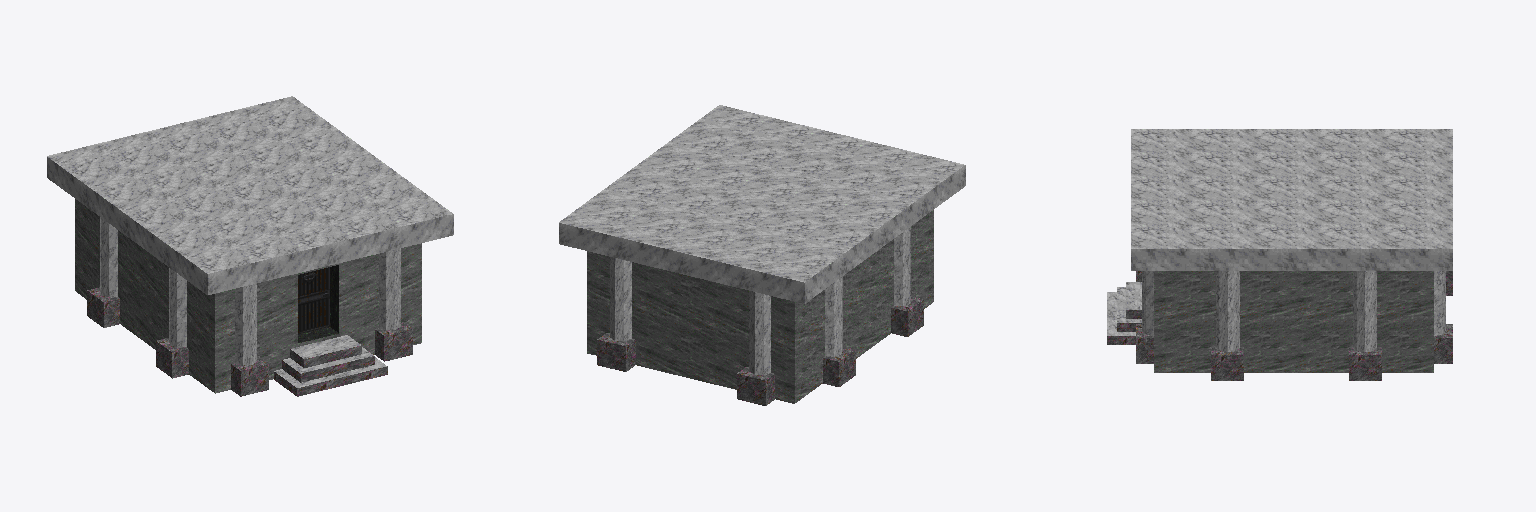
3 views of the same model, side by side, from view 1: azimuth 30°, elevation 25°; view 2: azimuth 150°, elevation 25°; view 3: azimuth 270°, elevation 25° (orthographic).
Visible parts, largest first — view 1: model43138-node_model43138; view 2: model43138-node_model43138; view 3: model43138-node_model43138.
Part boxes in pixels (x1,y1,x2,y2): model43138-node_model43138: (47, 96, 453, 396); model43138-node_model43138: (559, 105, 965, 405); model43138-node_model43138: (1107, 129, 1452, 380).
Bounding box in the file's own units: 12 × 6.21 × 14.6.
5 materials, 5 textured.